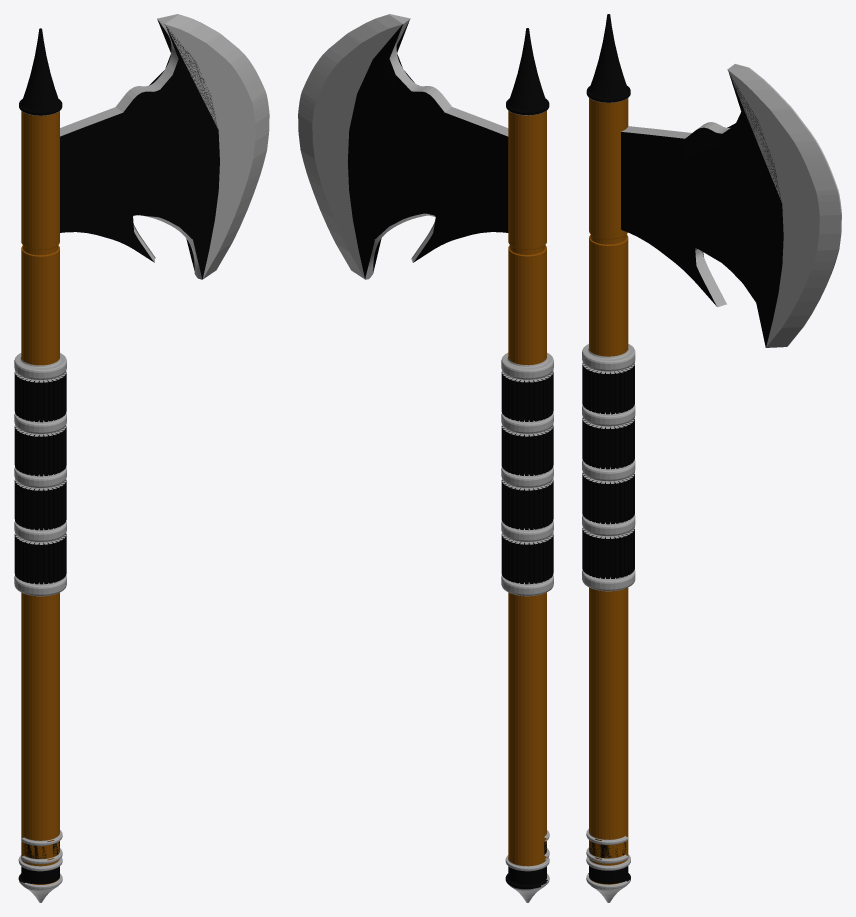
File: simpleAxe.glb
The picture shows the model from 3 angles, left to right: view 1: azimuth 30°, elevation 25°; view 2: azimuth 150°, elevation 25°; view 3: azimuth 330°, elevation 25°; orthographic projection.
Parts seen in each view (by area): view 1: simpleAxe; view 2: simpleAxe; view 3: simpleAxe.
Boxes of the visible parts, box(x1,y1,x2,y2) form: simpleAxe: box(14, 14, 269, 902); simpleAxe: box(298, 14, 553, 902); simpleAxe: box(582, 14, 841, 902).
Bounding box in the file's own units: 16.71 × 55.43 × 3.03.
